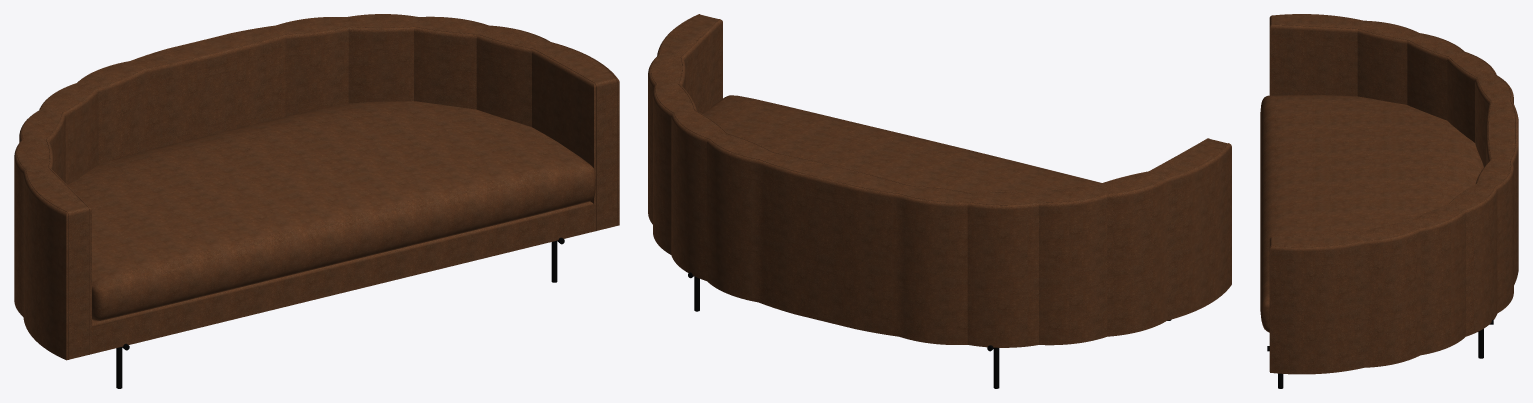
File: 001_Spativm.glb
3 renders of one model, left to right at view 1: azimuth 30°, elevation 25°; view 2: azimuth 150°, elevation 25°; view 3: azimuth 270°, elevation 25°, orthographic. The views are drawn at different scales.
Parts seen in each view (by area): view 1: root; view 2: root; view 3: root.
Boxes of the visible parts, <box> form: root: <box>14,14,619,388</box>; root: <box>648,14,1231,388</box>; root: <box>1260,14,1518,388</box>.
Bounding box in the file's own units: 1.98 × 0.6525 × 0.92.
Materials: 2 (1 with a texture image).
